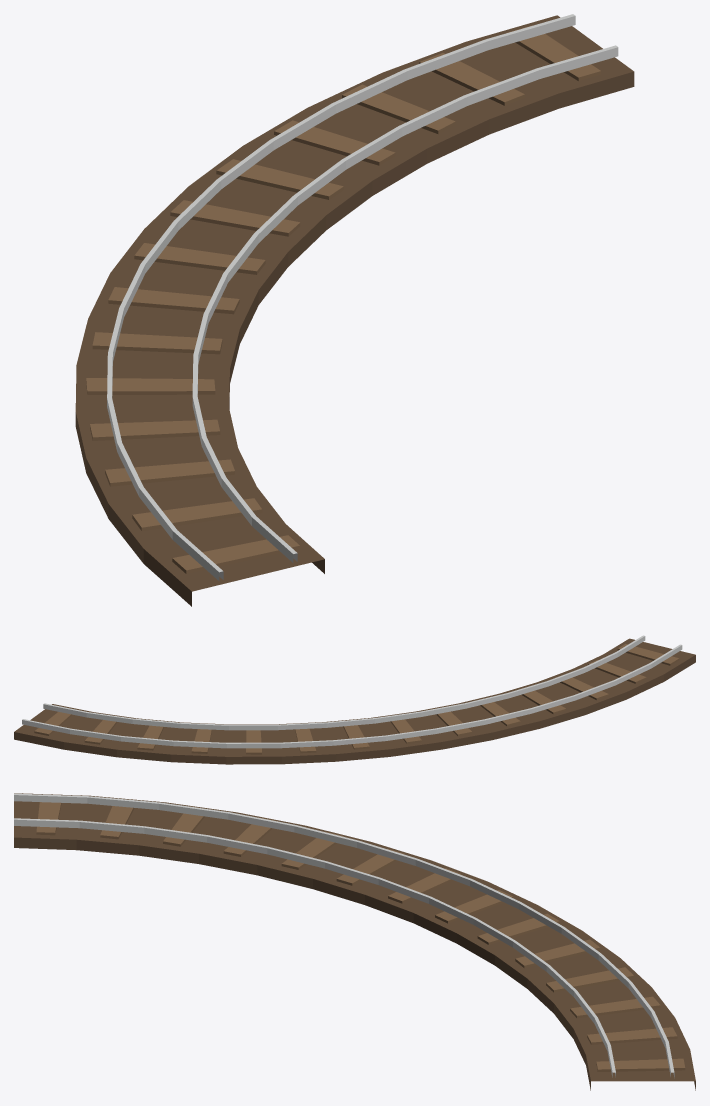
Rendered from Track turn x2.fbx.
The picture shows the model from 3 angles, top to bottom: view 1: azimuth 30°, elevation 25°; view 2: azimuth 150°, elevation 25°; view 3: azimuth 270°, elevation 25°; orthographic projection. The views are drawn at different scales.
Visible parts, largest first — view 1: 2 x Curve; view 2: 2 x Curve; view 3: 2 x Curve.
Part boxes in pixels (x1,y1,x2,y2): 2 x Curve: (75, 14, 634, 606); 2 x Curve: (14, 635, 695, 764); 2 x Curve: (14, 793, 695, 1090).
Bounding box in the file's own units: 3.25 × 0.1006 × 3.25.
